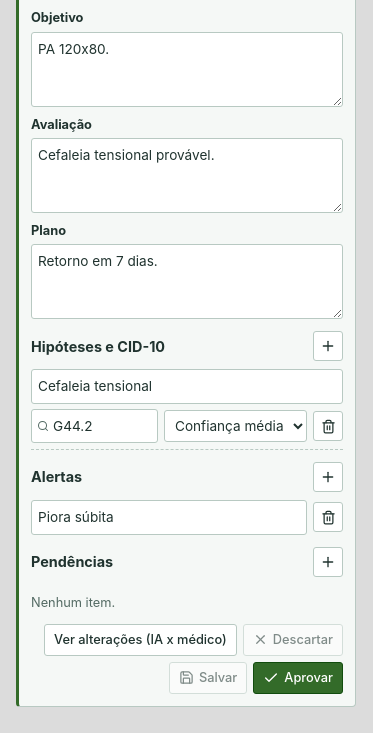
Scenario: SoapEditor › abre um SOAP editado com o diff IA x médico e permite descartar a edição local
(page scrolled)
Expected: the text box labelled "Plano" holds "Retorno em 7 dias.", [31,244,343,320]
Click the button "Ver alterações (IA x médico)" at point(140, 640), box [44,624,237,656]
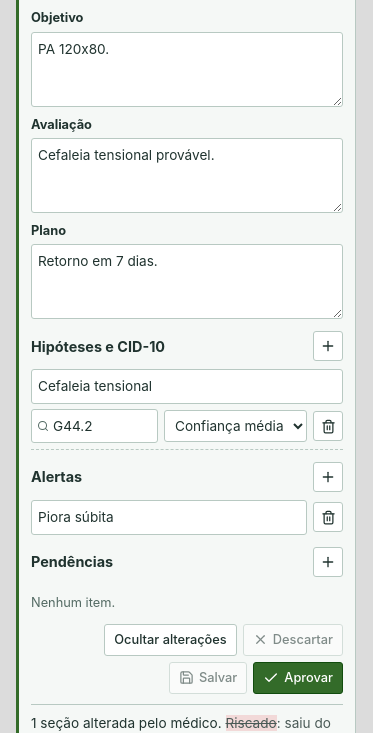
Replace the text in the text box labelled "Plano" with "Outro plano" at point(187, 282), box [31,244,343,320]
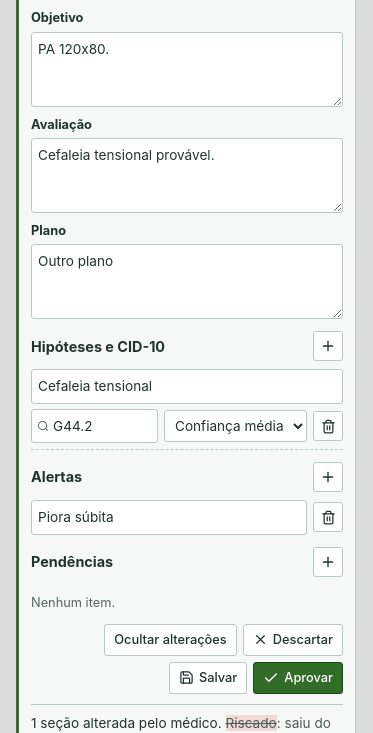
Click the button "Descartar" at point(293, 640), box [243,624,343,656]
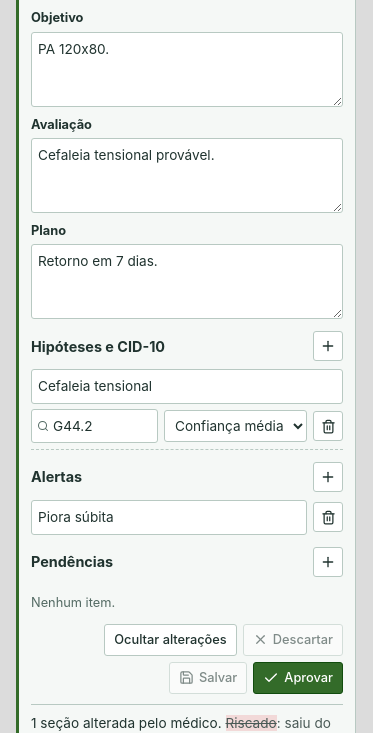
Now the text box labelled "Plano" holds "Retorno em 7 dias.", box [31,244,343,320]
